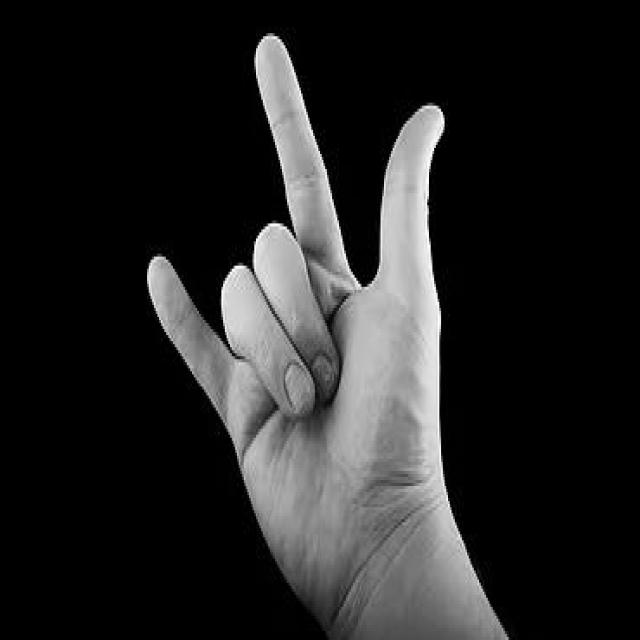i love you: (143, 28, 451, 638)
